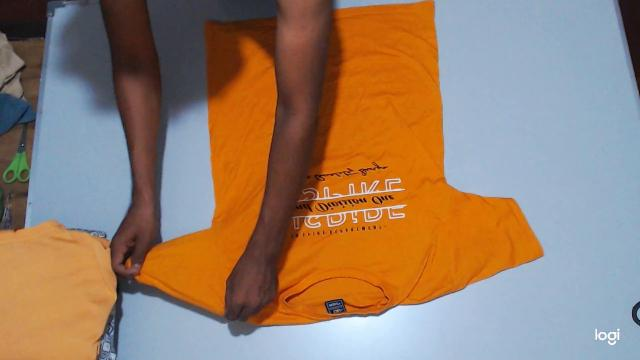new-garment: (250, 1, 543, 325), (138, 19, 277, 314)
